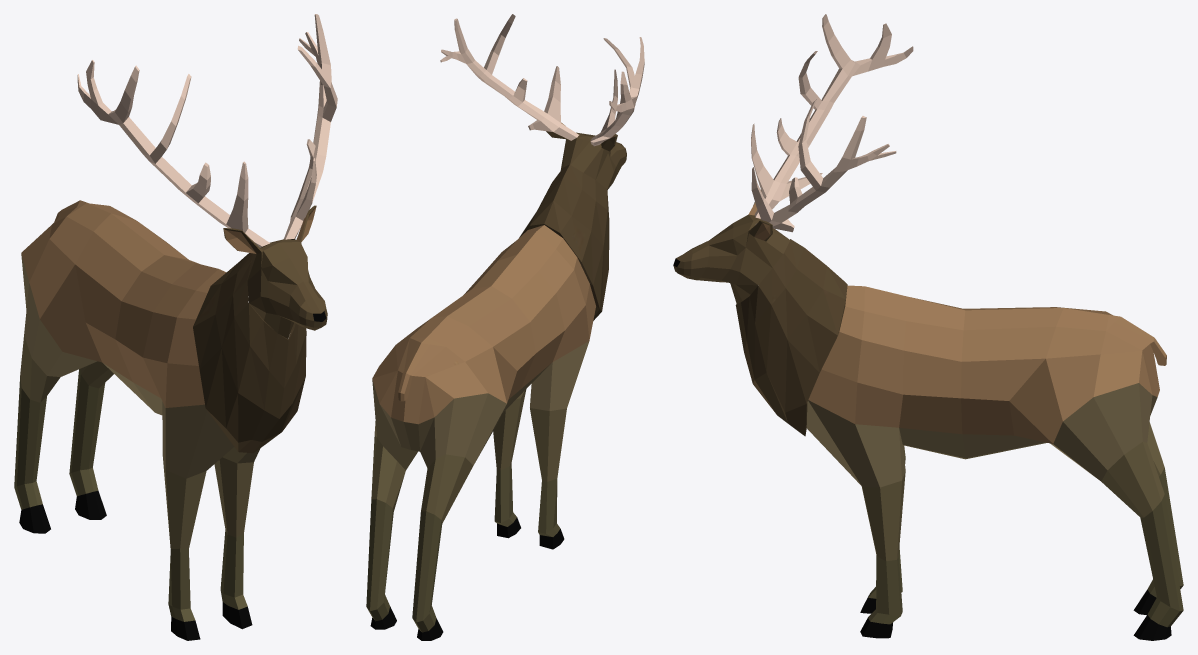
Rendered from deer_free_model_b.glb.
The picture shows the model from 3 angles, left to right: view 1: azimuth 30°, elevation 25°; view 2: azimuth 150°, elevation 25°; view 3: azimuth 270°, elevation 25°; orthographic projection. The views are drawn at different scales.
Parts seen in each view (by area): view 1: 09deerFinal; view 2: 09deerFinal; view 3: 09deerFinal.
Boxes of the visible parts, left/top/right/bottom form: 09deerFinal: left=14, top=14, right=337, bottom=640; 09deerFinal: left=366, top=14, right=644, bottom=640; 09deerFinal: left=673, top=14, right=1183, bottom=640.
Bounding box in the file's own units: 1.04 × 2.72 × 2.24.
Materials: 1 (1 with a texture image).
